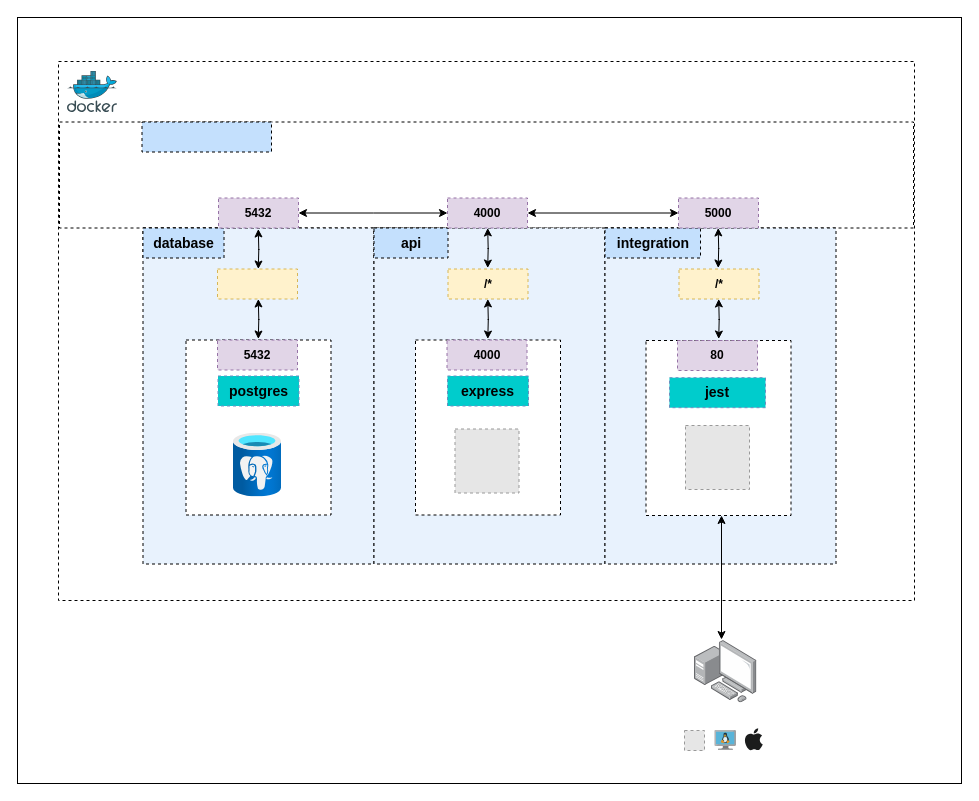
Image size: 979x801. Some labels were removed from this diagram. Grey dashed boxes stand in for pictures. The shapes that lost their labels are listed below. From the top down, each one's centre as x and y in pixels, then its label:
At pixel 206 136: "localhost".
At pixel 257 283: "notes".
At pixel 725 671: "Computer".
